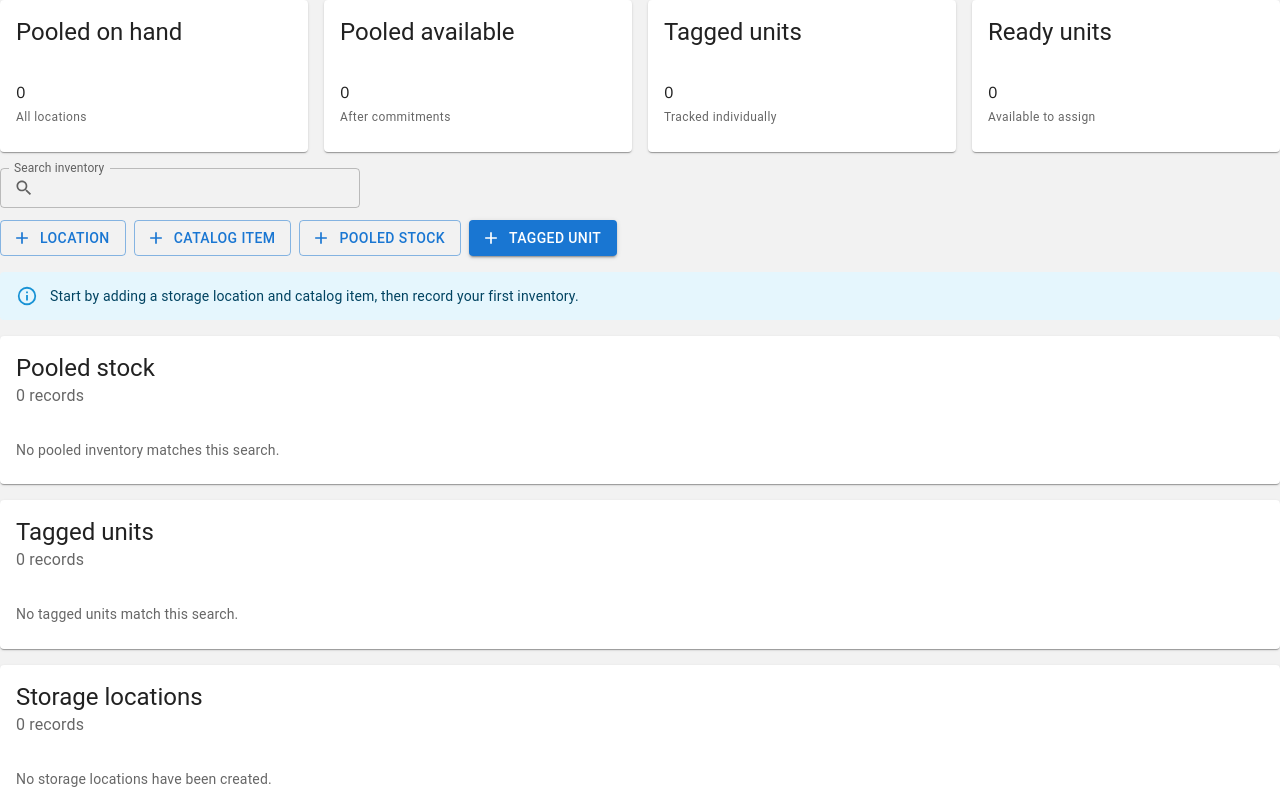
it: GearInventoryManager › shows an explicit accessible empty state and 44px admin controls
The width and height of the screenshot is (1280, 800).
Expected: the message shows "Start by adding a storage location", [50, 288, 579, 304]
Expected: the button "Location" is shown, [0, 220, 126, 256]
Click the button "Pooled stock" at (380, 238), box [299, 220, 461, 256]
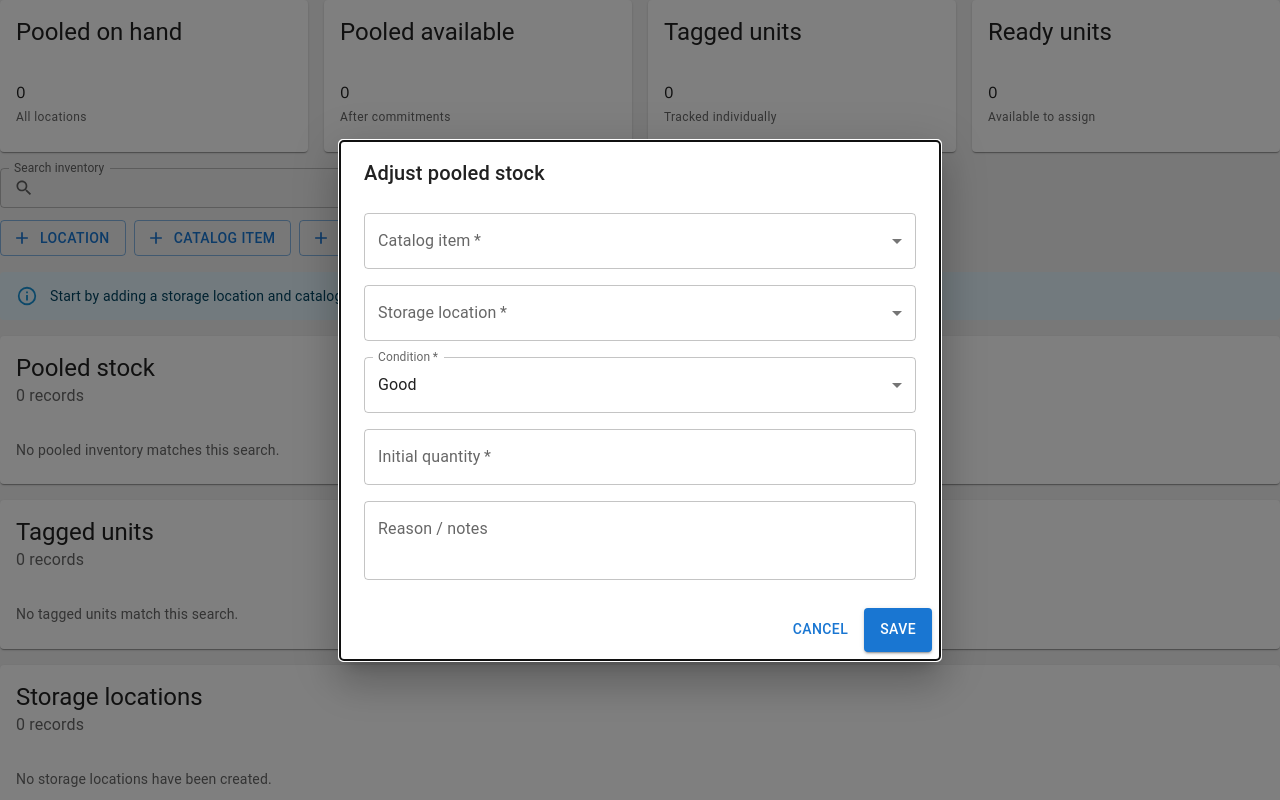
Now the dialog "Adjust pooled stock" is shown, box [340, 140, 940, 660]
Now the number field labelled "Initial quantity" is shown, box [364, 428, 916, 484]
Click the button "Cancel" at (820, 630), box [785, 611, 856, 648]
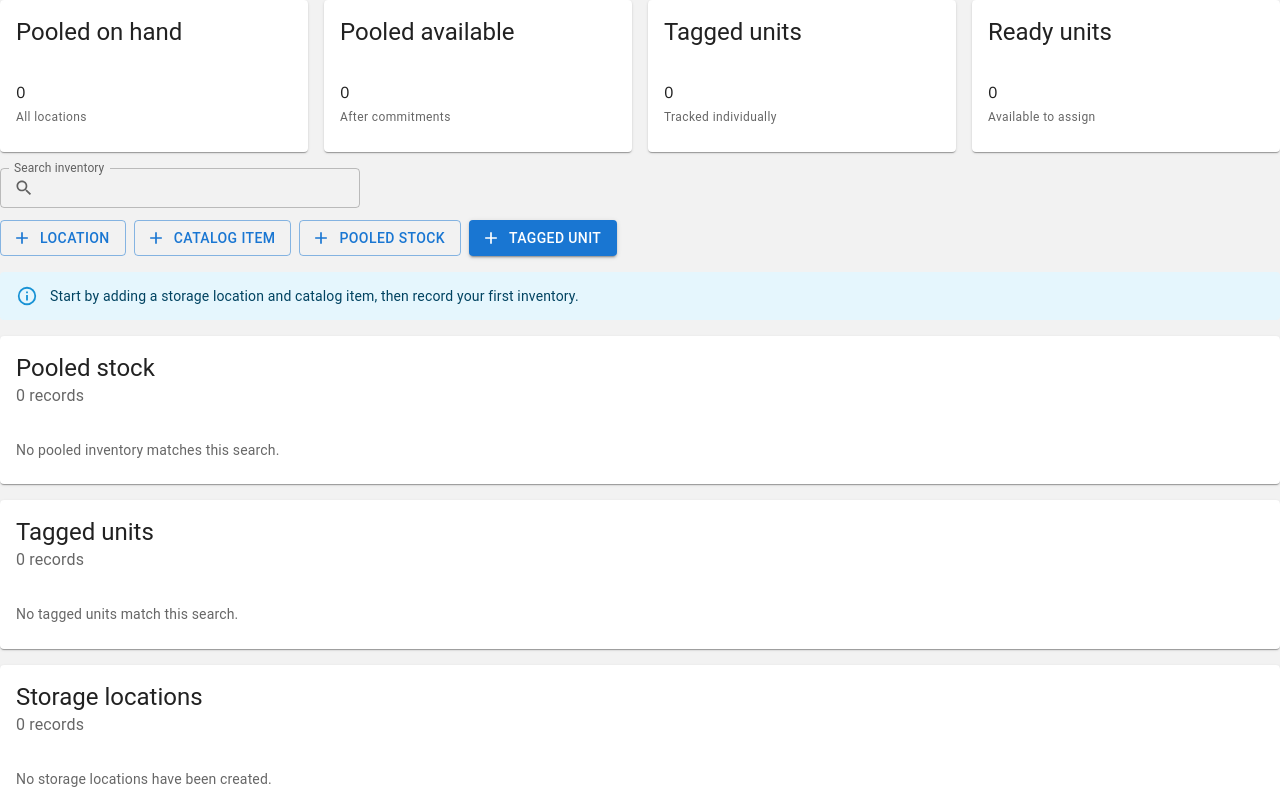
Click the button "Location" at (63, 238), box [0, 220, 126, 256]
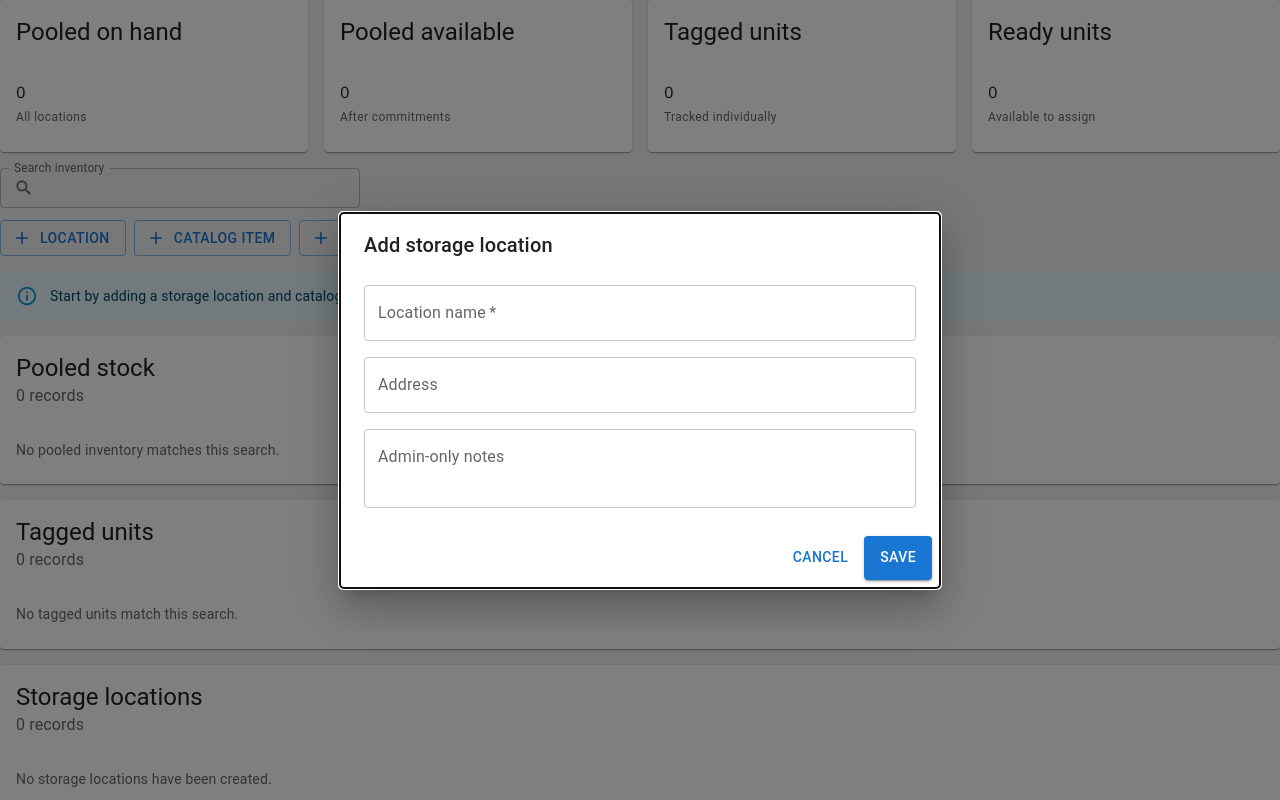
Now the dialog "Add storage location" is shown, box [340, 212, 940, 588]
